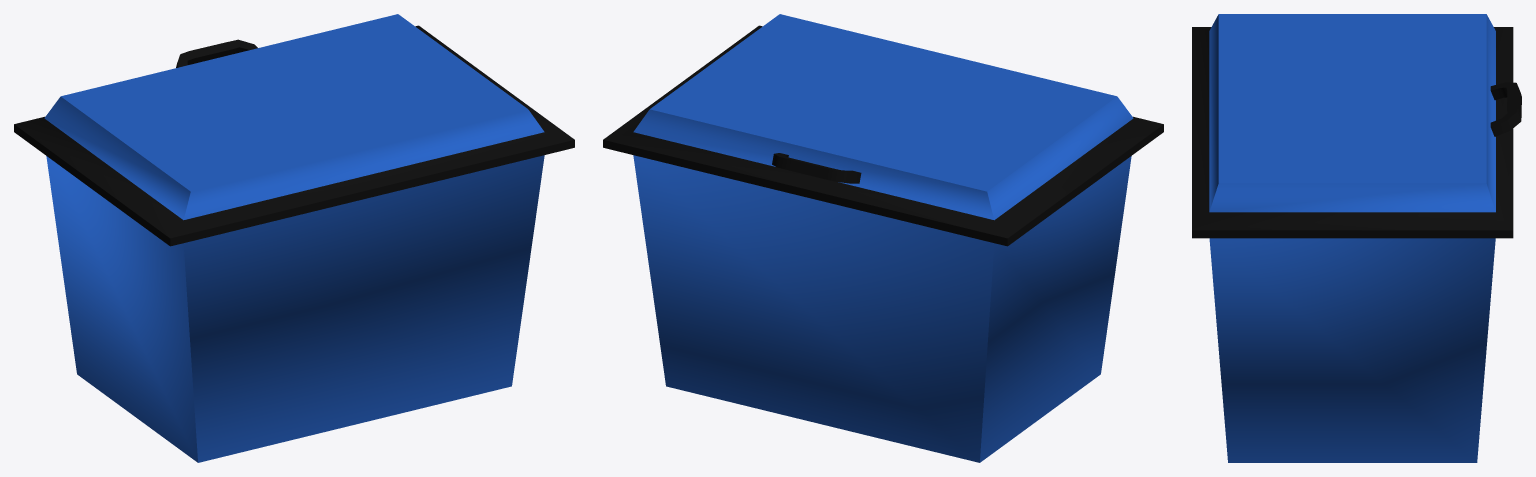
Rendered from мусоркабольшая.fbx.
3 views of the same model, side by side, from view 1: azimuth 30°, elevation 25°; view 2: azimuth 150°, elevation 25°; view 3: azimuth 270°, elevation 25° (orthographic). The views are drawn at different scales.
Visible parts, largest first — view 1: мусорка большая; view 2: мусорка большая; view 3: мусорка большая.
Part boxes in pixels (left/top/right/bottom): мусорка большая: left=14, top=14, right=574, bottom=462; мусорка большая: left=603, top=14, right=1163, bottom=462; мусорка большая: left=1192, top=14, right=1521, bottom=462.
Bounding box in the file's own units: 191 × 125 × 131.
